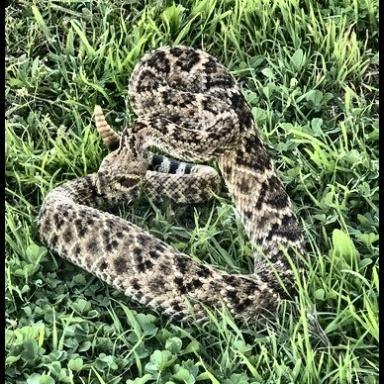snake: (37, 59, 305, 333)
